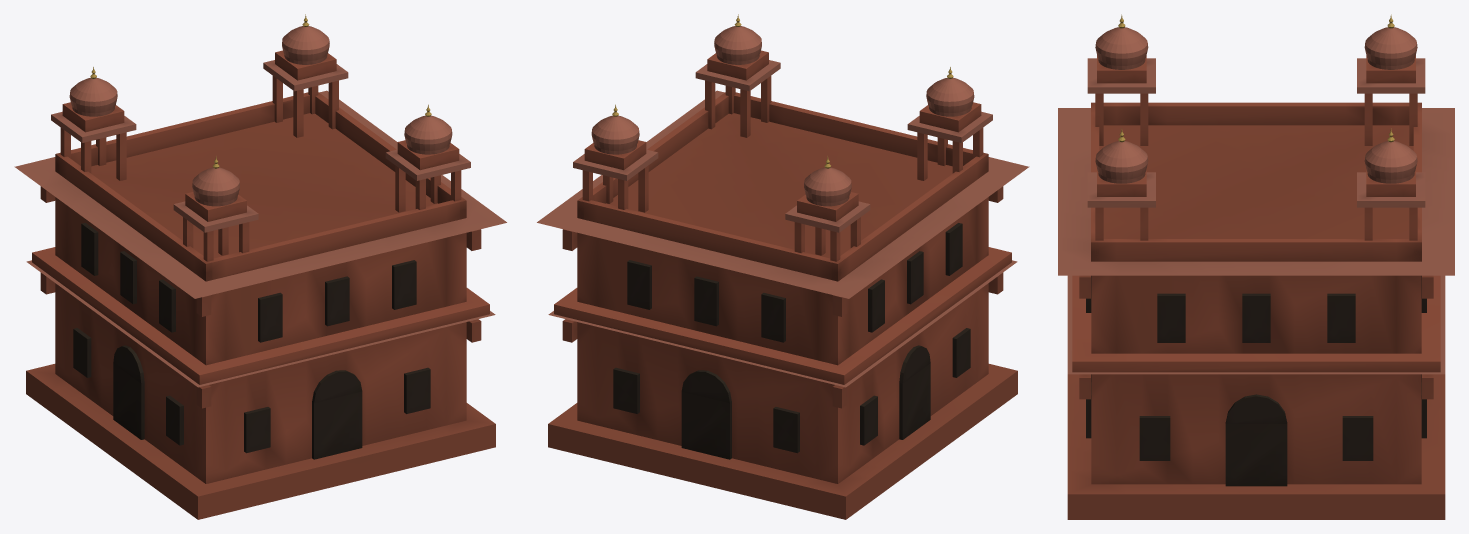
The model's file is diwan-i-khas.glb.
3 views of the same model, side by side, from view 1: azimuth 30°, elevation 25°; view 2: azimuth 150°, elevation 25°; view 3: azimuth 270°, elevation 25° (orthographic). The views are drawn at different scales.
Visible parts, largest first — view 1: p0_hall, p1_eaves and kiosks, p2_corner kiosks; view 2: p0_hall, p1_eaves and kiosks, p2_corner kiosks; view 3: p0_hall, p1_eaves and kiosks, p2_corner kiosks.
Boxes of the visible parts, box(x1,y1,x2,y2) form: p0_hall: box(26, 113, 495, 519); p1_eaves and kiosks: box(14, 90, 506, 408); p2_corner kiosks: box(51, 14, 470, 261); p0_hall: box(548, 113, 1017, 519); p1_eaves and kiosks: box(537, 90, 1029, 408); p2_corner kiosks: box(573, 14, 992, 261); p0_hall: box(1067, 125, 1445, 519); p1_eaves and kiosks: box(1058, 102, 1454, 399); p2_corner kiosks: box(1087, 14, 1425, 240).
Size of the model in its own units: 16.8 by 17.25 by 16.8.
